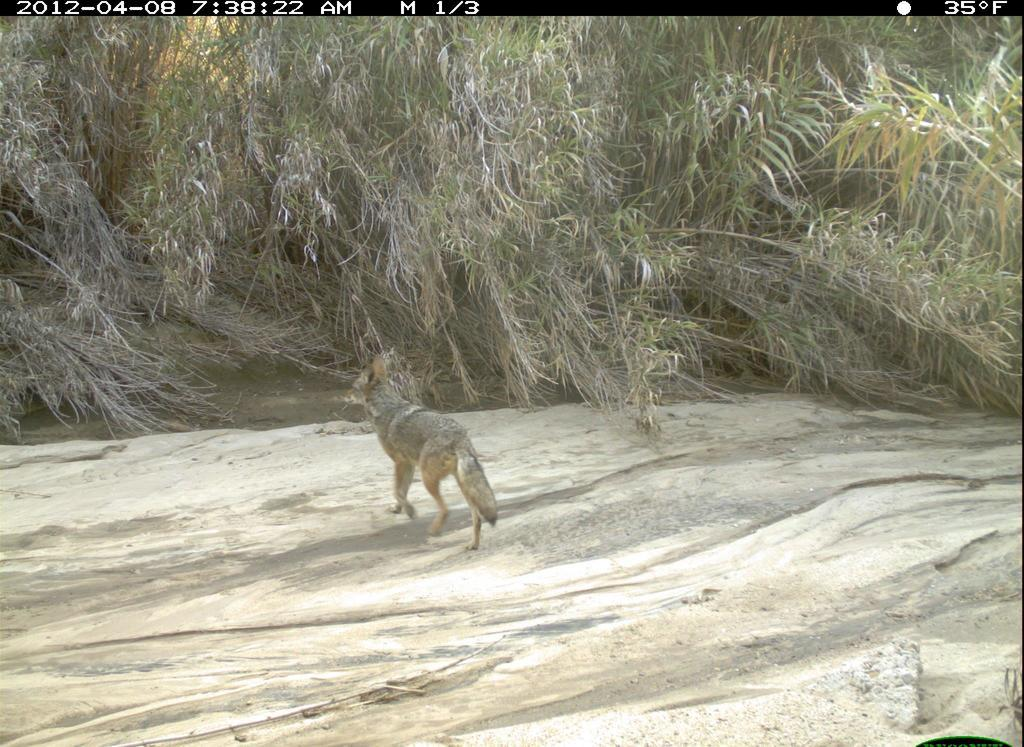coyote: (329, 346, 511, 564)
